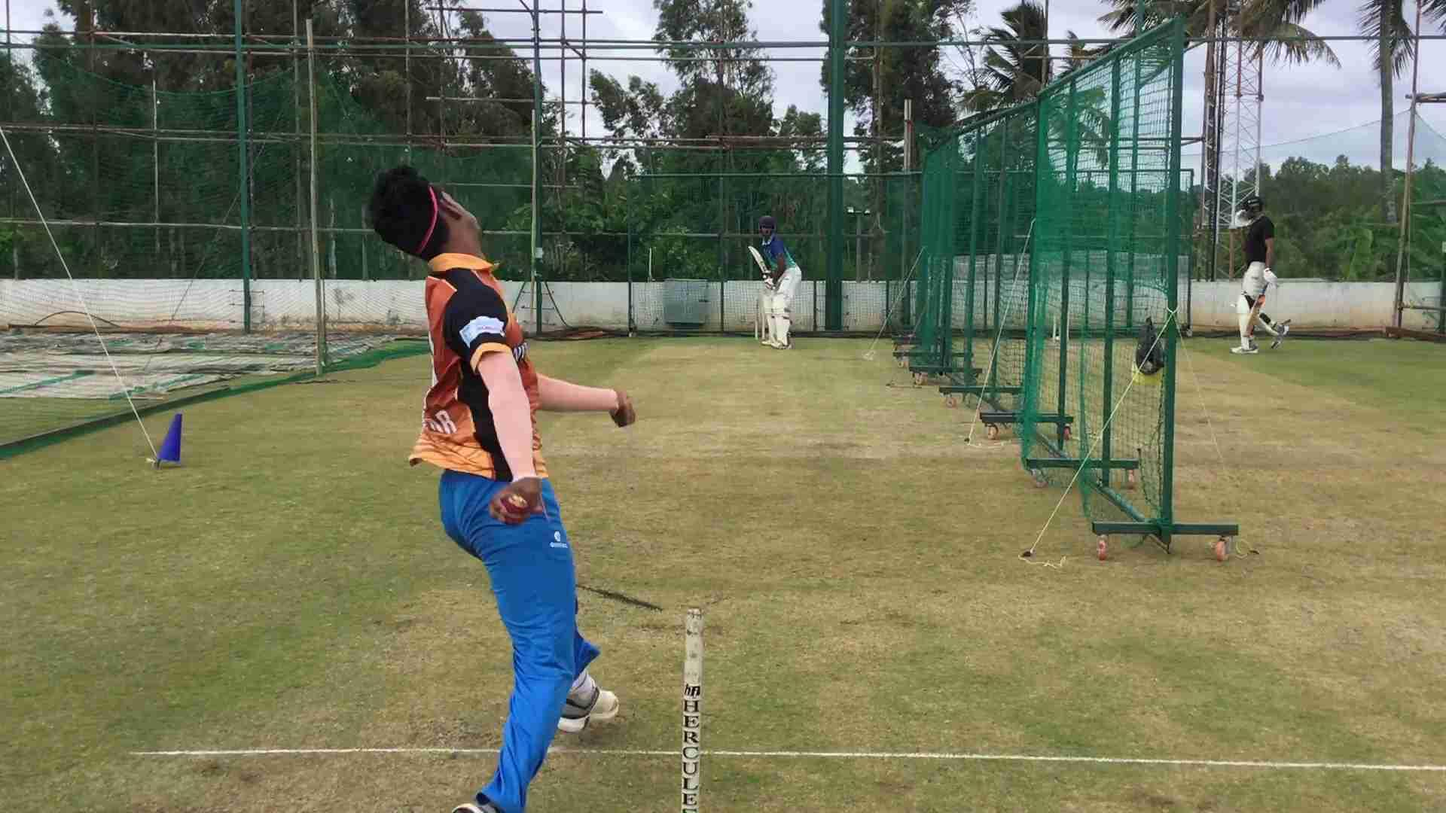batsman: (750, 208, 805, 353)
